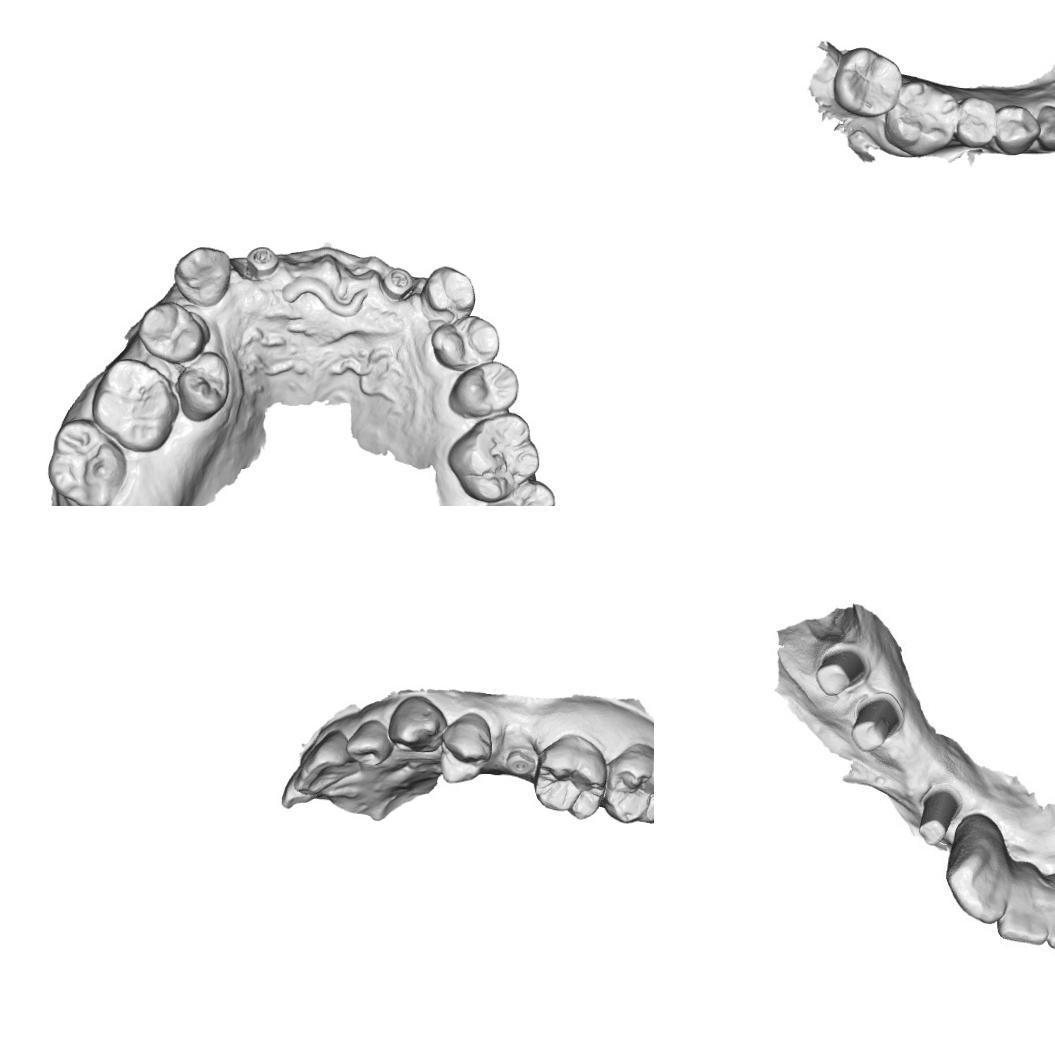abutment: (810, 641, 870, 704), (844, 694, 902, 758), (912, 784, 959, 847)
canine: (946, 812, 1014, 922), (170, 244, 238, 308), (386, 692, 448, 754), (418, 264, 477, 318), (1034, 102, 1055, 149)
implant: (378, 266, 418, 302), (244, 244, 282, 280), (501, 746, 538, 778)
incisor: (995, 857, 1053, 948), (293, 727, 360, 795), (344, 717, 392, 768), (277, 763, 315, 813), (1041, 873, 1055, 952)
molar: (445, 410, 543, 505), (89, 356, 182, 454), (43, 415, 127, 506), (530, 730, 608, 822), (882, 78, 961, 160), (830, 44, 905, 120), (602, 744, 654, 826), (474, 478, 557, 506)
premolar: (134, 300, 209, 366), (446, 359, 520, 421), (429, 314, 502, 374), (438, 710, 496, 784), (178, 350, 232, 424), (994, 103, 1040, 155), (956, 93, 997, 149)
